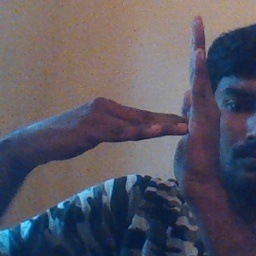Z: (111, 11, 231, 196)
